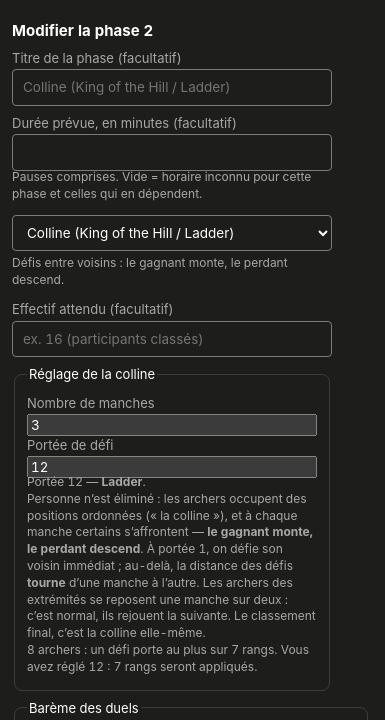
la borne de portée sur l’écran des phases › annonce un REFUS et éteint le bouton, au lieu de promettre un raccourcissement
The width and height of the screenshot is (385, 720).
Expected: the text "8 archers" is shown, [27,642,309,674]
Step 1. Type "4" into the field labelled "Effectif attendu (facultatif)" → (172, 339), box [12,320,332,357]
(page scrolled)
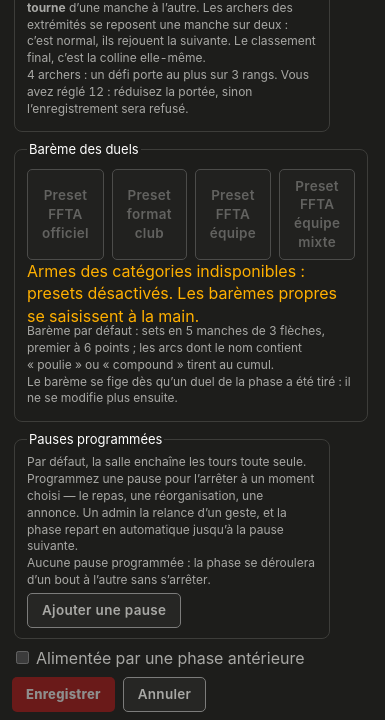
Expected: the text "l’enregistrement sera refusé" is shown, [27,67,309,116]
Expected: the text "seront appliqués" is gone
Expected: the button "Enregistrer" is disabled, [12,677,115,712]
